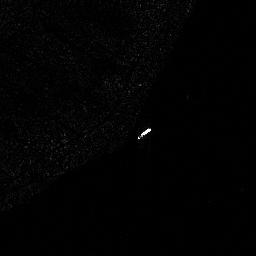ship: (136, 126, 153, 140)
